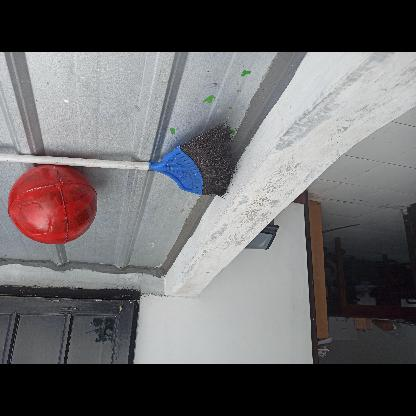red_ball: (9, 162, 96, 249)
